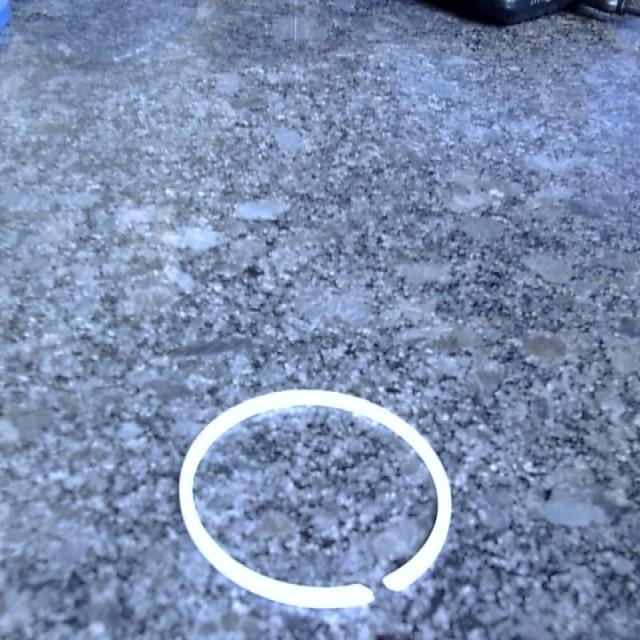white-ring: (180, 390, 451, 608)
